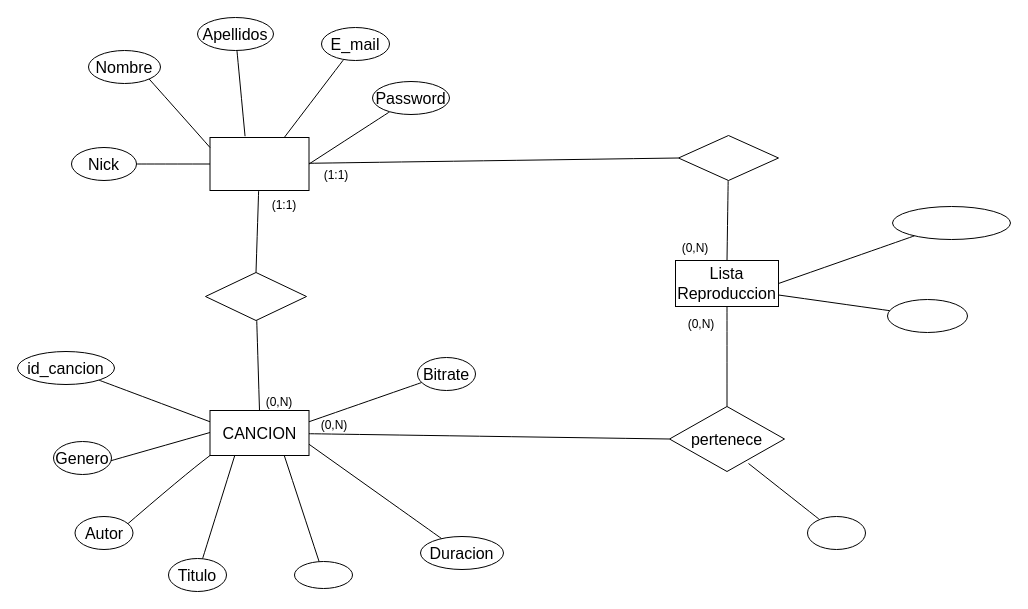
The diagram is 1028 pixels wide and 609 high, and some of its shapes have lost their labels. Each missing label, with the centre of its shape:
"crea" goes at (728,157).
"Fecha" goes at (323,574).
"id_lista" goes at (927,315).
"Nombre_Lista" goes at (951,223).
"Orden" goes at (836,533).
"sube" goes at (255,296).
"USUARIO" goes at (259,163).
